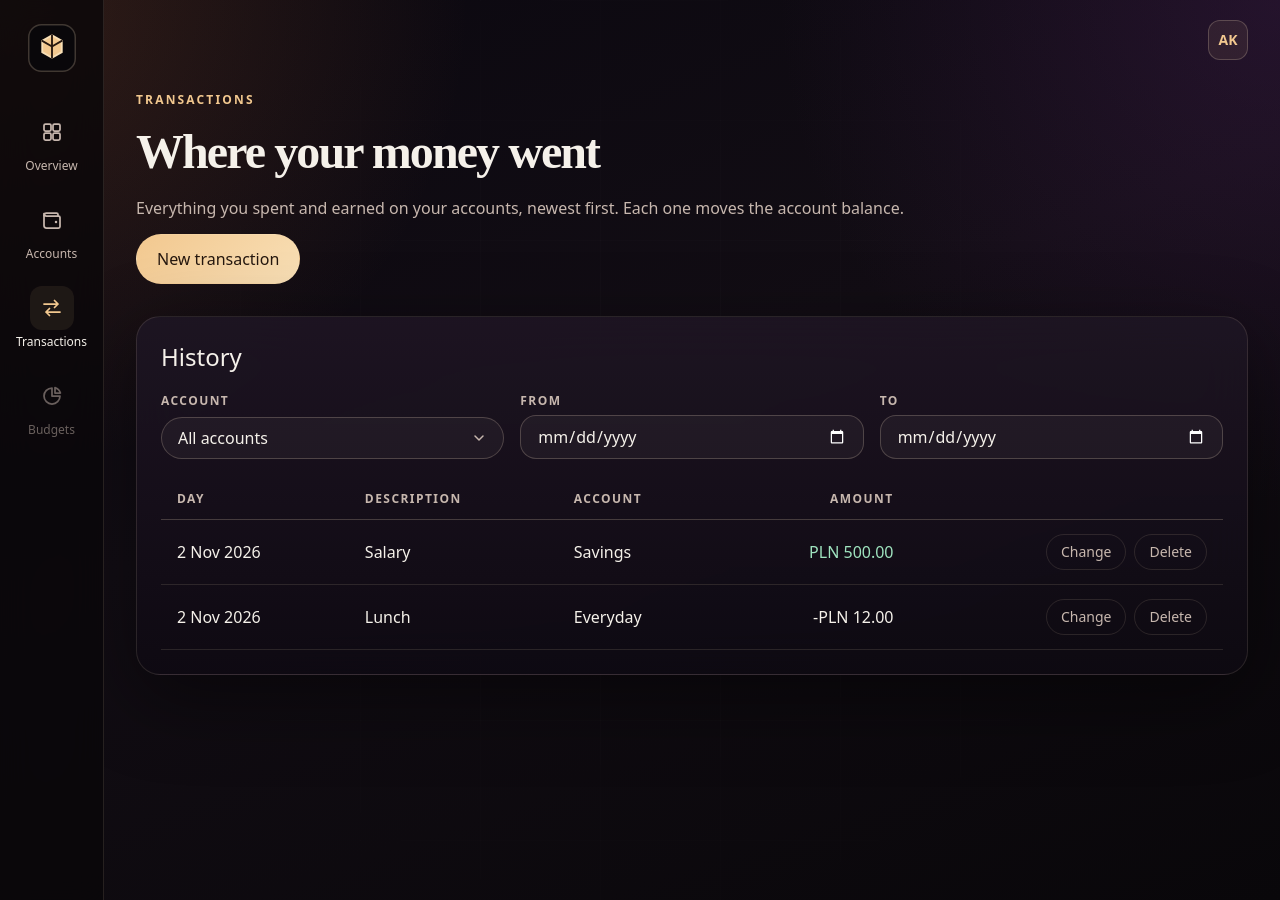
Test: transactions page › filters by account and keeps the filter in the address
The image size is (1280, 900).
Expected: the text "Lunch" is shown, [365,605,410,629]
Click the dropdown labelled "account" at (223, 438), box [161,417,504,459]
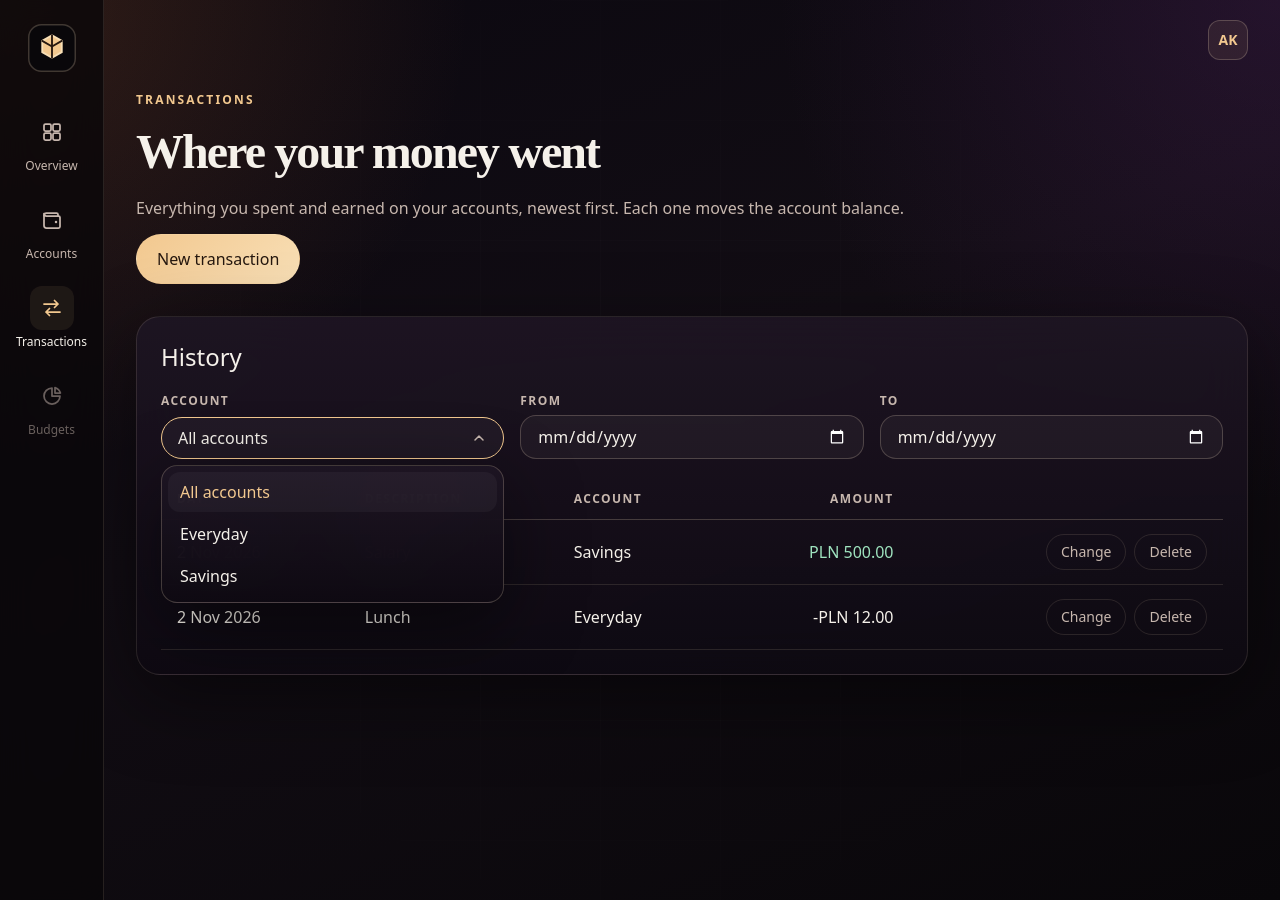
Click the option "Savings" at (209, 576), box [180,565,237,587]
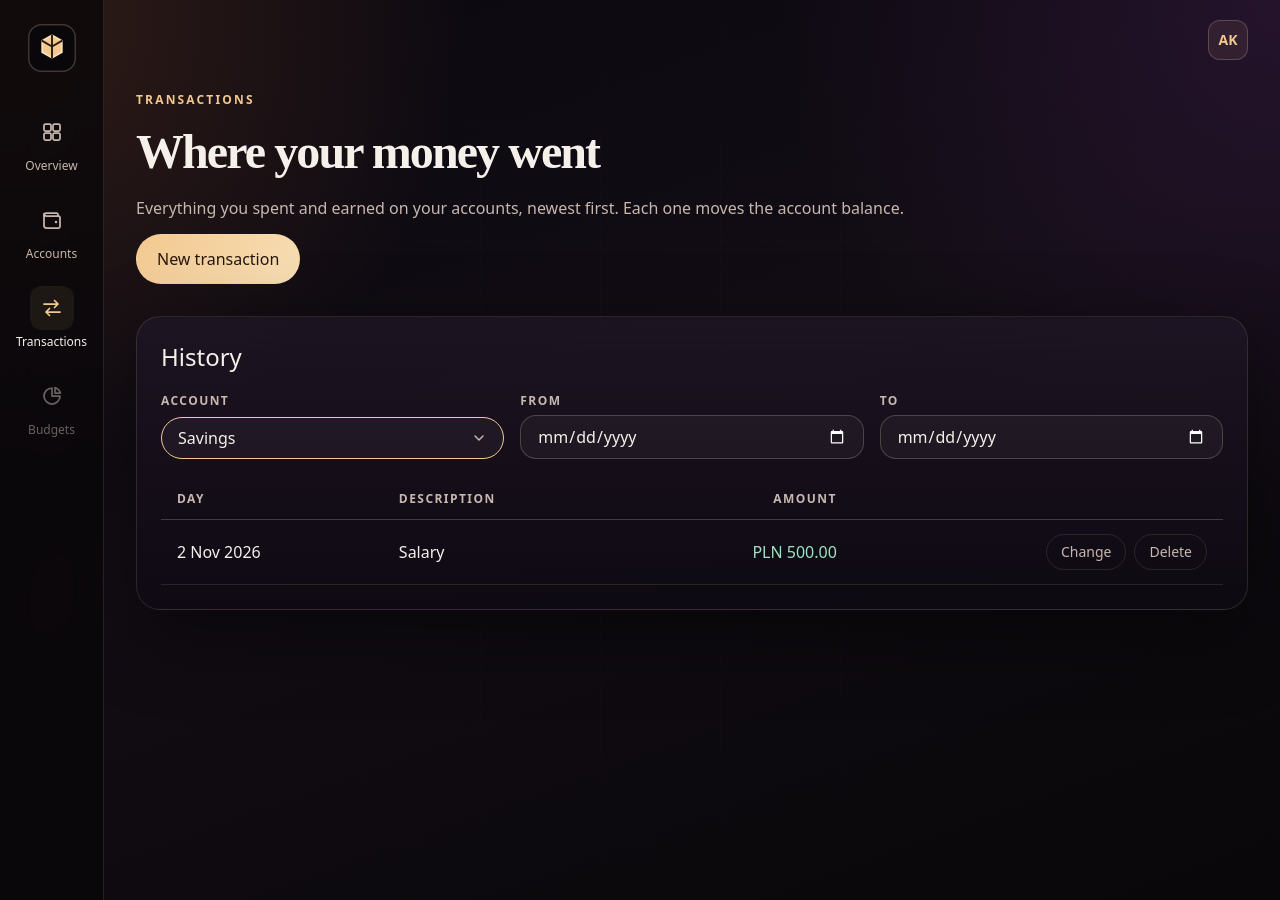
Expected: the text "Salary" is shown, [399,540,444,564]
Now the text "Lunch" is gone
